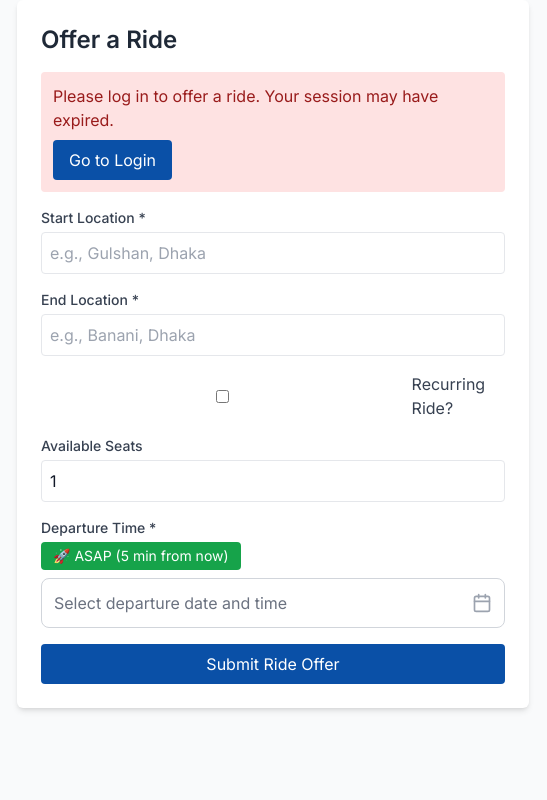
it: RideOfferForm › toggles recurring mode
Click the checkbox at [222, 396], box [41,390,404,402]
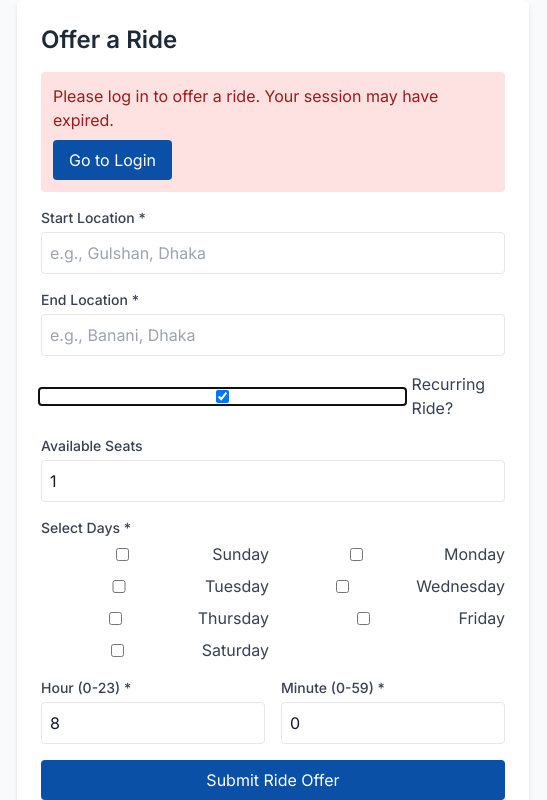
Expected: the text "Select Days *" is shown, [41,519,131,536]
